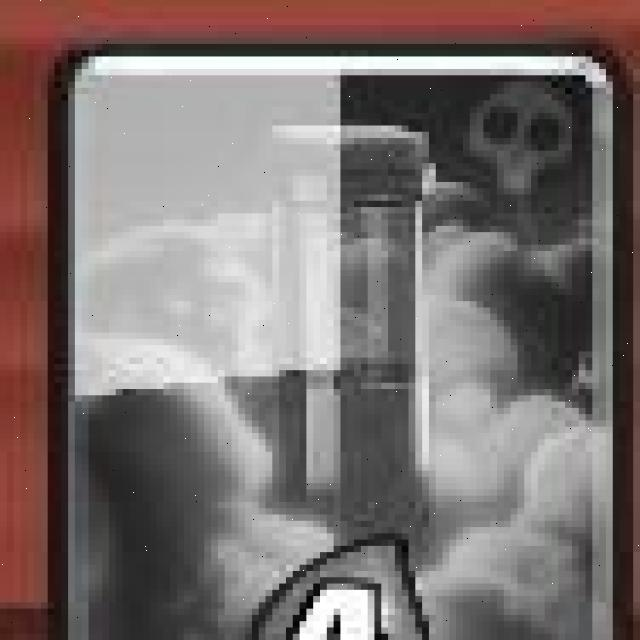Poison: (49, 48, 623, 640)
